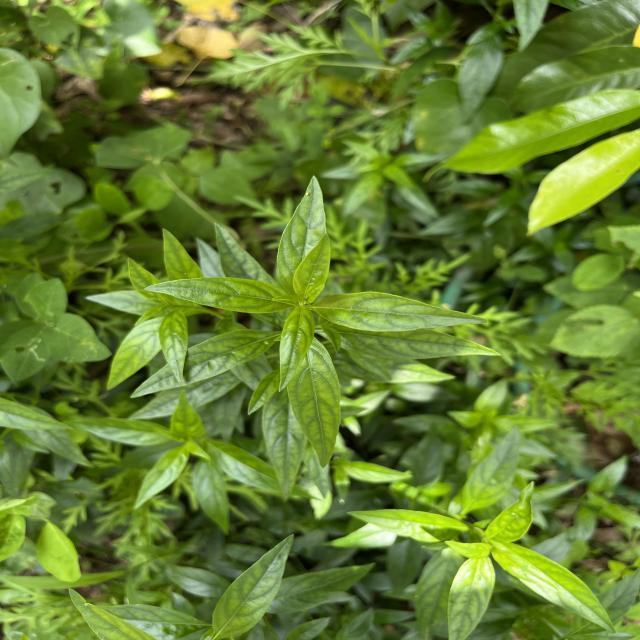Andrographis paniculata: (498, 544, 620, 634), (128, 329, 278, 401), (209, 532, 297, 639), (286, 337, 342, 469), (316, 290, 490, 332), (274, 175, 326, 288), (142, 276, 288, 315), (262, 393, 306, 501), (445, 555, 496, 640), (346, 508, 468, 543), (132, 448, 191, 510), (278, 306, 316, 392), (66, 416, 170, 444), (291, 232, 331, 302), (195, 459, 232, 534), (157, 308, 190, 382)
